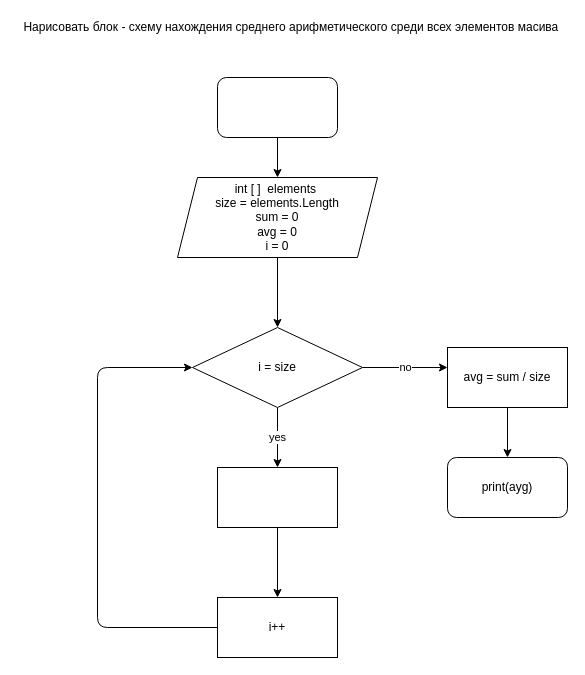
Some shapes in this 585 by 675 pixel diagram are drawn without their labels. Each missing label, with the centre of its shape:
"Start" belongs at (277,107).
"sum = sum + numbers[i]" belongs at (277,497).
